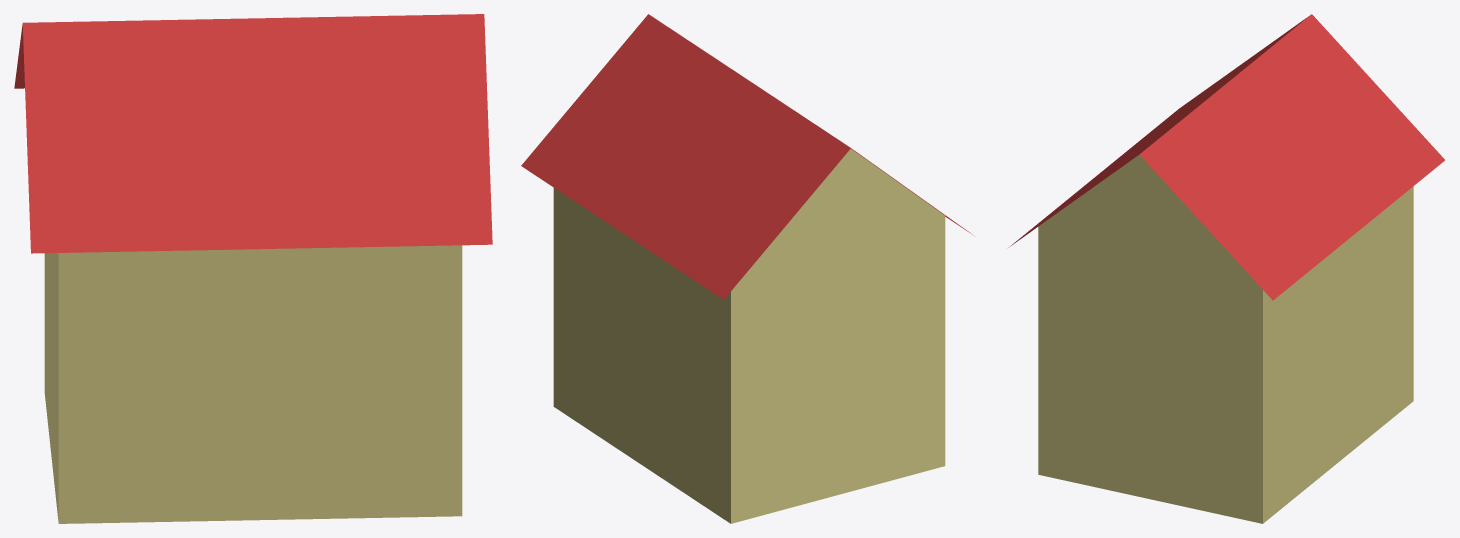
3 views of the same model, side by side, from view 1: azimuth 30°, elevation 25°; view 2: azimuth 150°, elevation 25°; view 3: azimuth 270°, elevation 25° (orthographic). The views are drawn at different scales.
Parts seen in each view (by area): view 1: group_5, group_3, group_4; view 2: group_5, group_3; view 3: group_5, group_3.
Boxes of the visible parts, x1,y1,x2,y2 form: group_5: (44, 245, 462, 523); group_3: (23, 14, 492, 253); group_4: (14, 14, 484, 253); group_5: (553, 149, 945, 523); group_3: (521, 14, 973, 299); group_5: (1038, 154, 1413, 523); group_3: (1008, 14, 1444, 300).
Size of the model in its own units: 20.03 by 18.68 by 16.6.
